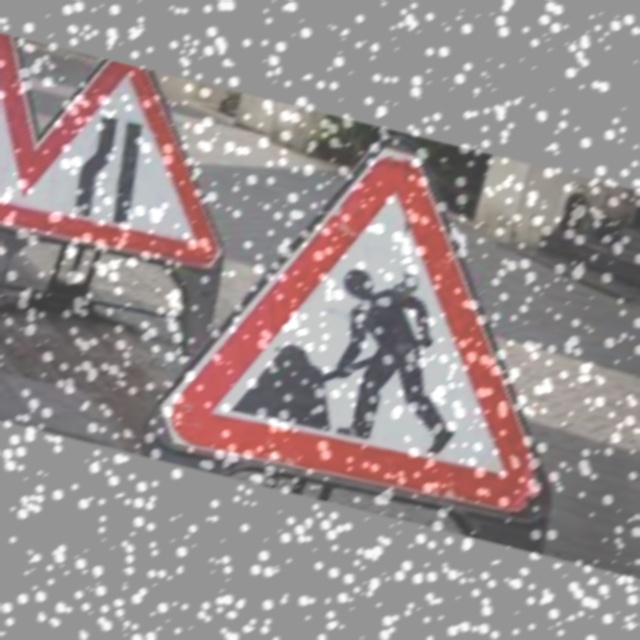Men_at_Work: (152, 136, 596, 538)
